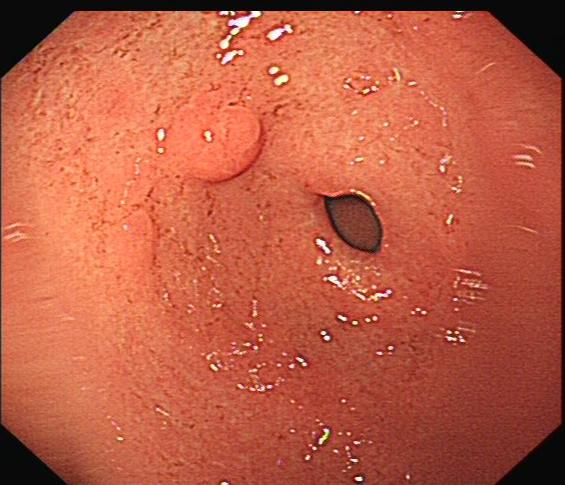Polyp: (159, 92, 268, 187)
